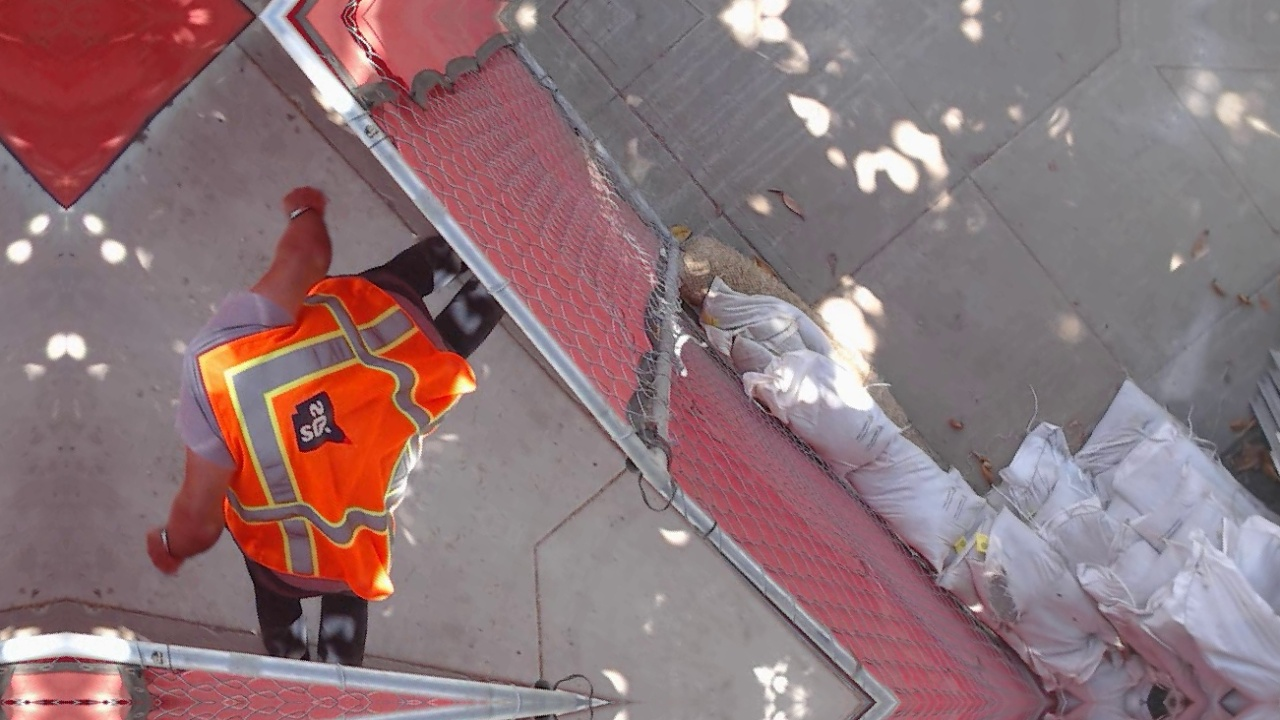person: (167, 454, 453, 720)
safetyvest: (166, 552, 325, 710)
